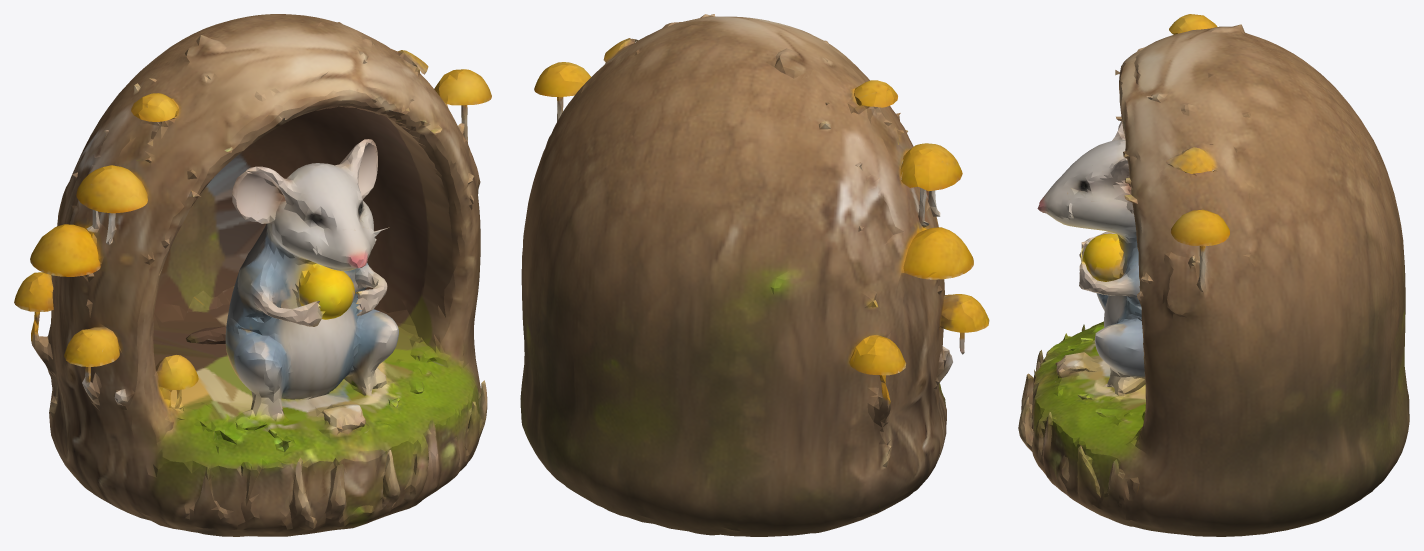
3 views of the same model, side by side, from view 1: azimuth 30°, elevation 25°; view 2: azimuth 150°, elevation 25°; view 3: azimuth 270°, elevation 25° (orthographic). The views are drawn at different scales.
Visible parts, largest first — view 1: 015; view 2: 015; view 3: 015.
Boxes of the visible parts, x1,y1,x2,y2 form: 015: (14,14,491,536); 015: (520,14,989,536); 015: (1018,14,1409,536).
Bounding box in the file's own units: 1.83 × 1.75 × 1.47.
1 material, 1 textured.
